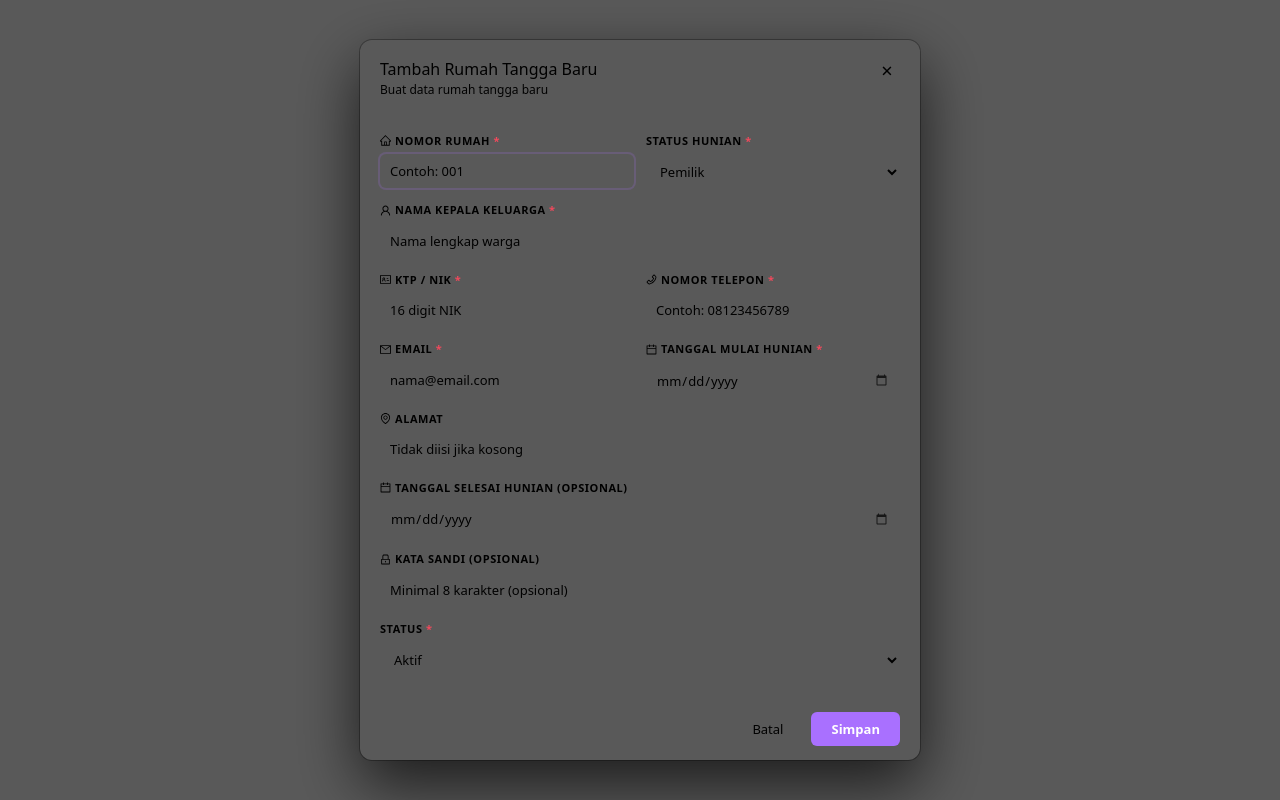
Test case: W4.3 — HouseholdCreate form rendering › shows API error on 400 validation error
Step 1. Type "001" into the field labelled "Nomor Rumah *" → coordinates (507, 171), box 380,154 -> 634,188
Step 2. Type "Budi" into the field labelled "Nama Kepala Keluarga *" → coordinates (640, 241), box 380,224 -> 900,258
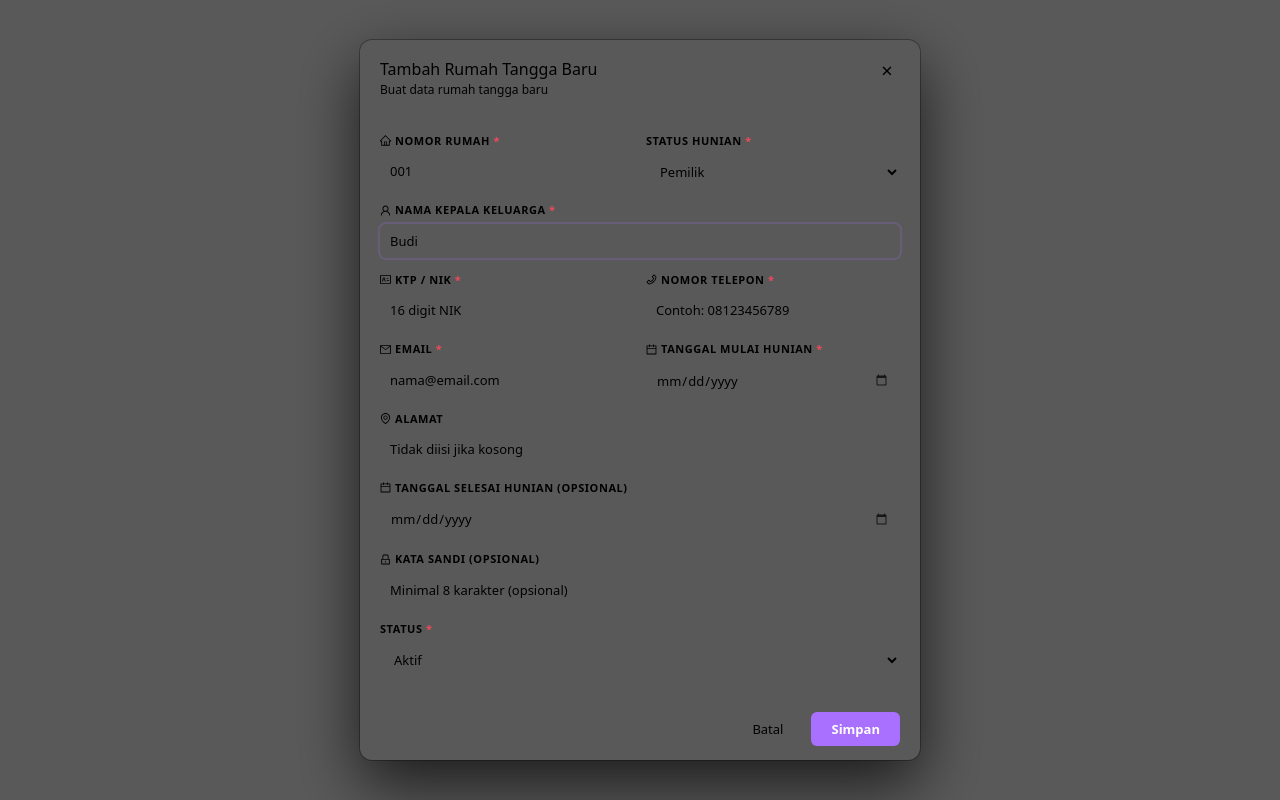
Step 3. Type "3201011234560001" into the field labelled "KTP / NIK *" → coordinates (507, 310), box 380,293 -> 634,327
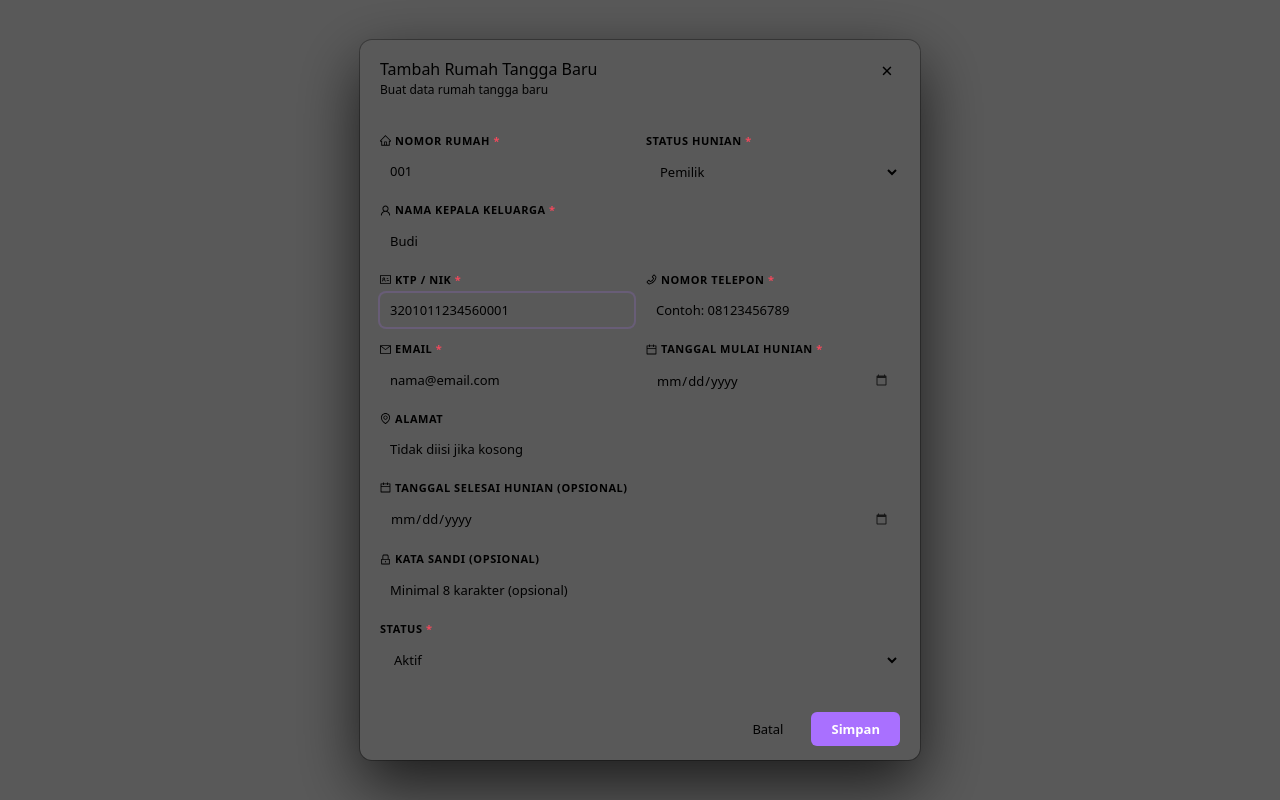
Step 4. Type "081234567890" into the field labelled "Nomor Telepon *" → coordinates (773, 310), box 646,293 -> 900,327
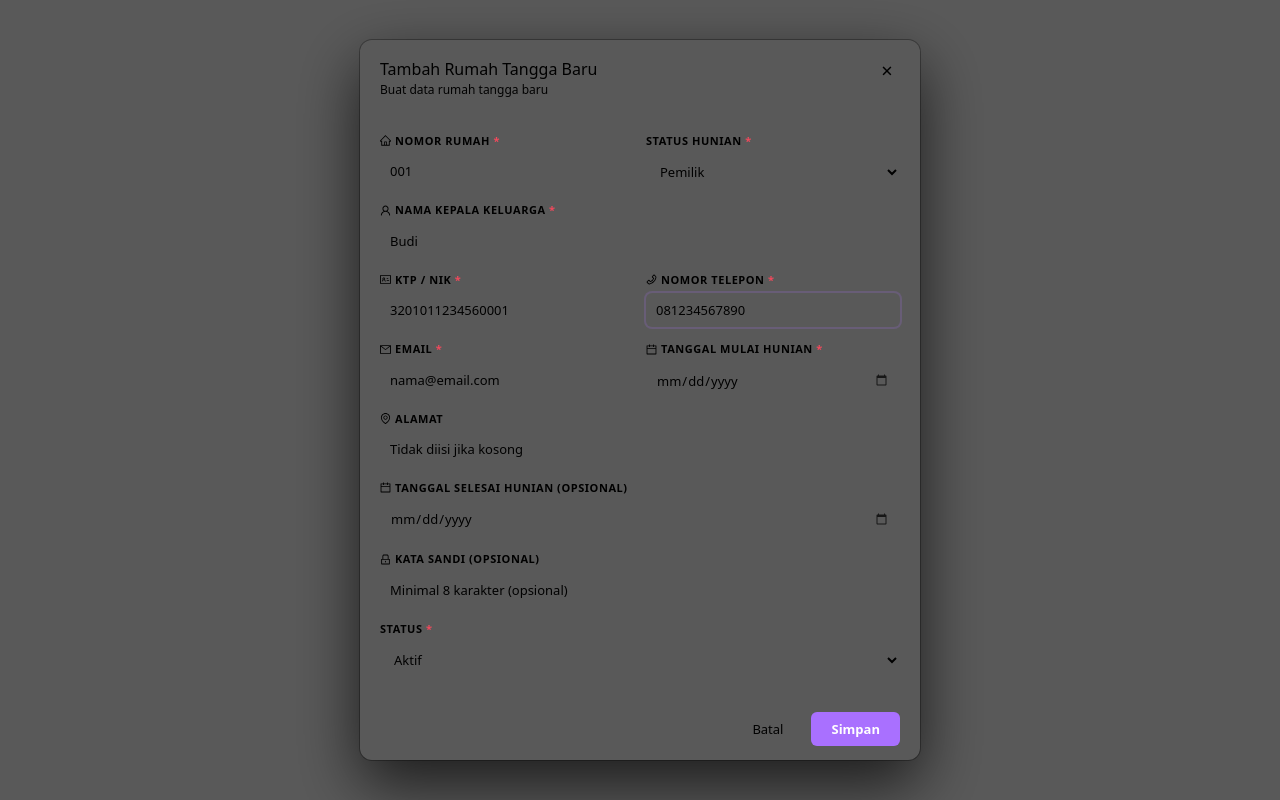
Step 5. Type "budi@example.com" into the field labelled "Email *" → coordinates (507, 380), box 380,363 -> 634,397
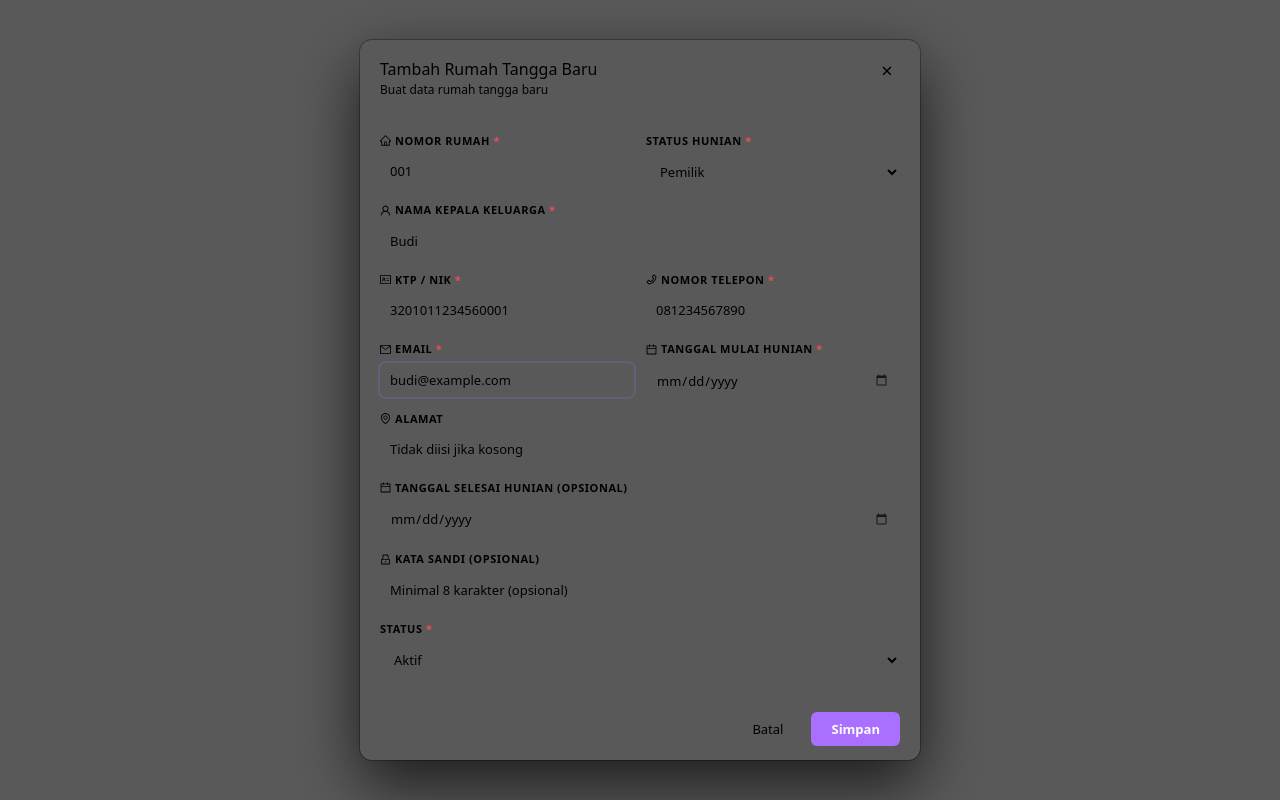
Step 6. Type "2026-01-01" into the date field labelled "Tanggal Mulai Hunian *" → coordinates (773, 381), box 646,363 -> 900,399
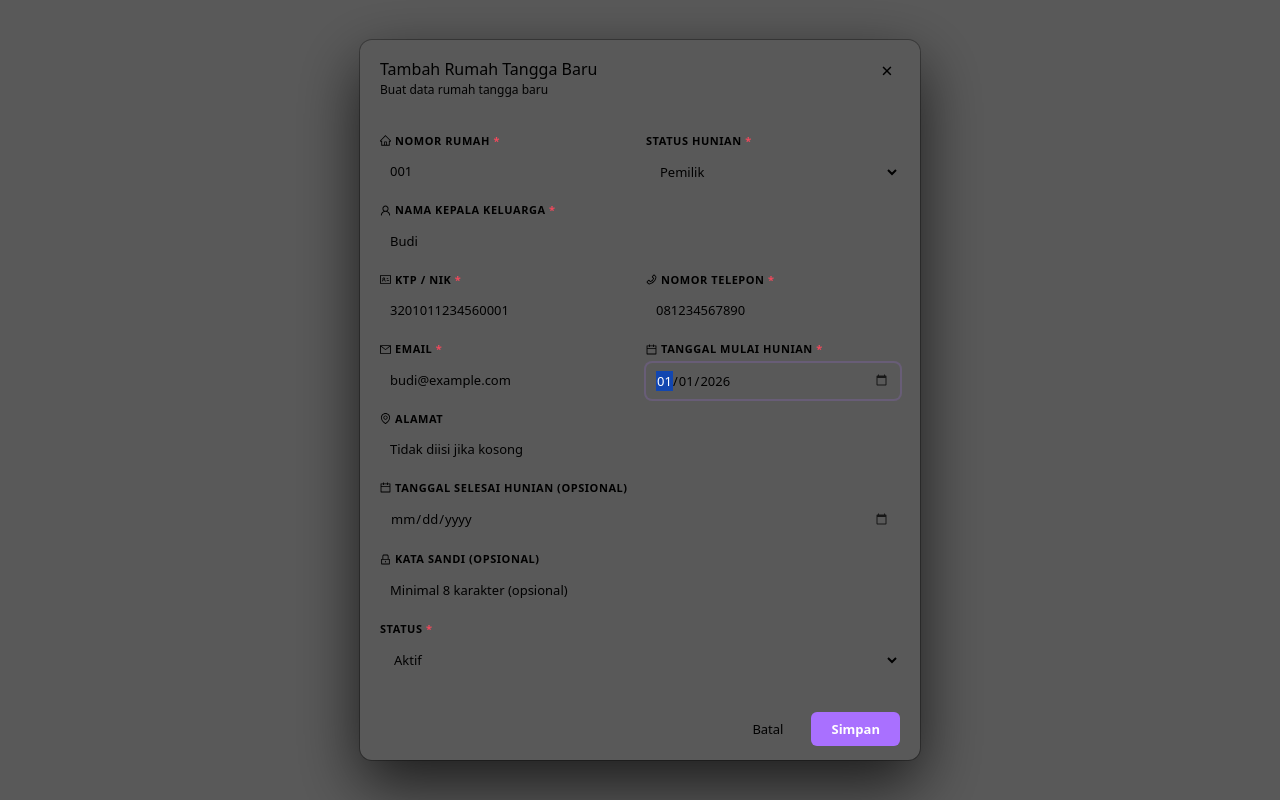
Step 7. Click the button "Simpan" → coordinates (856, 729), box 812,712 -> 900,746
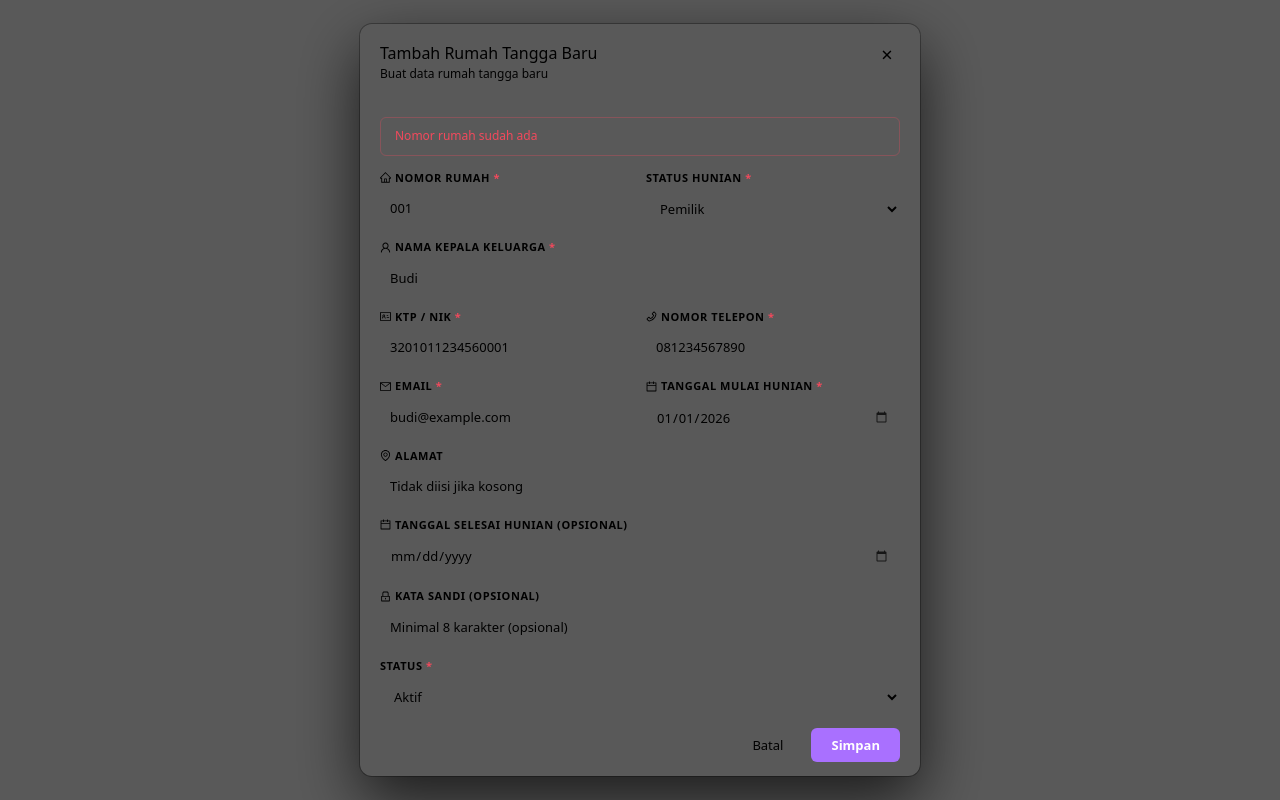
Result: the text "Nomor rumah sudah ada" is shown at 380,117 -> 900,156
